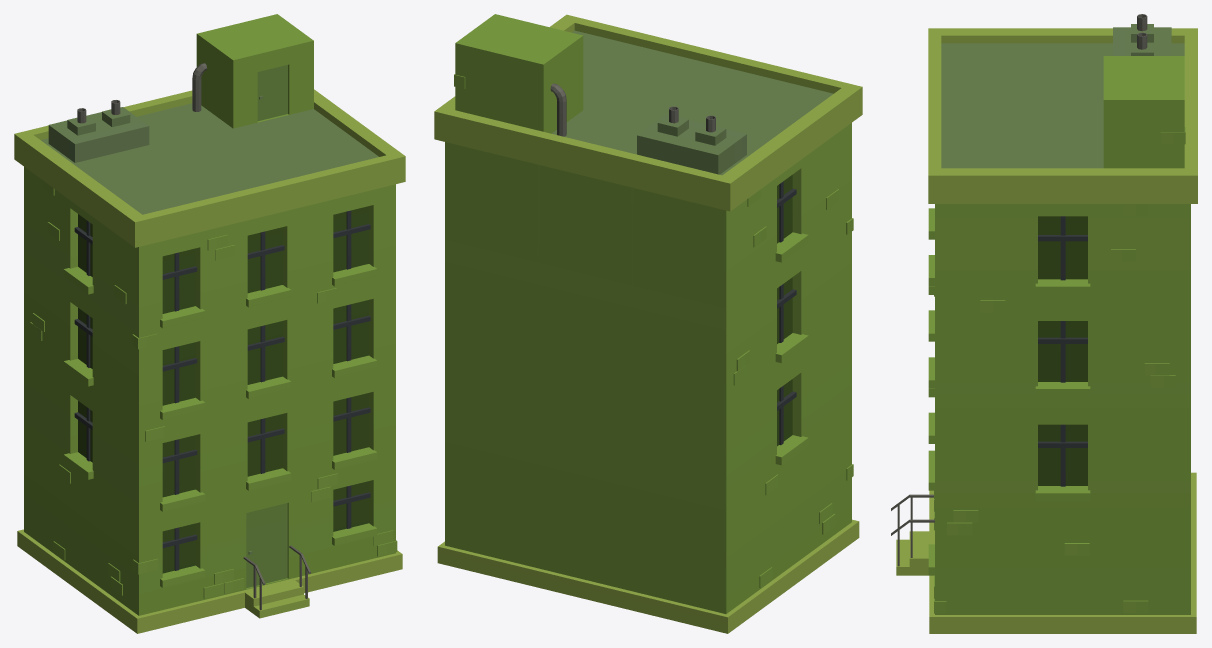
File: House_01.fbx
3 views of the same model, side by side, from view 1: azimuth 30°, elevation 25°; view 2: azimuth 150°, elevation 25°; view 3: azimuth 270°, elevation 25° (orthographic). The views are drawn at different scales.
Visible parts, largest first — view 1: House_01; view 2: House_01; view 3: House_01.
Boxes of the visible parts, x1,y1,x2,y2 form: House_01: (14, 14, 405, 633); House_01: (434, 14, 862, 633); House_01: (891, 14, 1197, 633).
Bounding box in the file's own units: 7.14 × 11.96 × 6.29.
